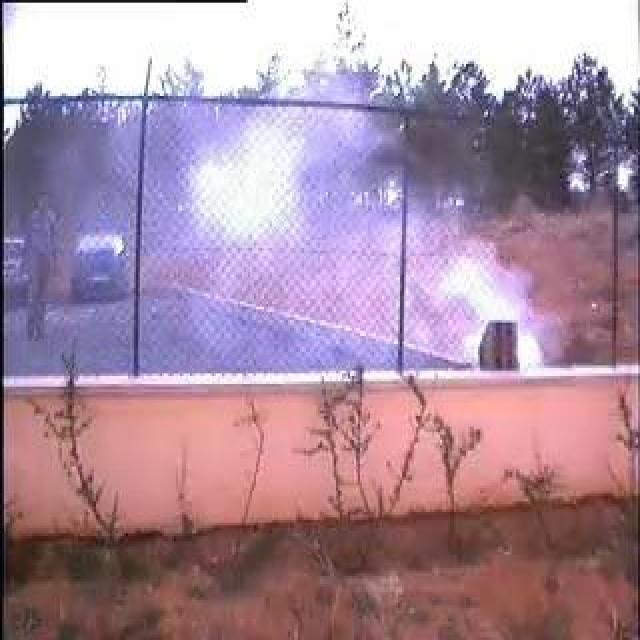Smoke: (179, 103, 539, 369)
